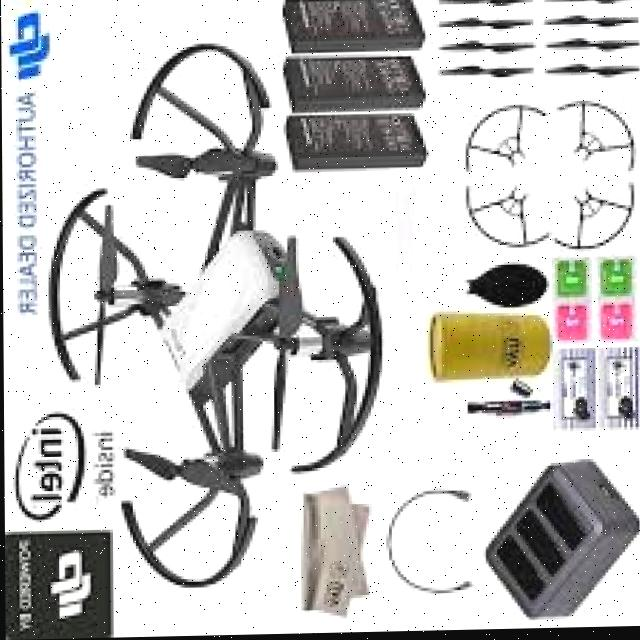drone: (43, 33, 380, 596)
